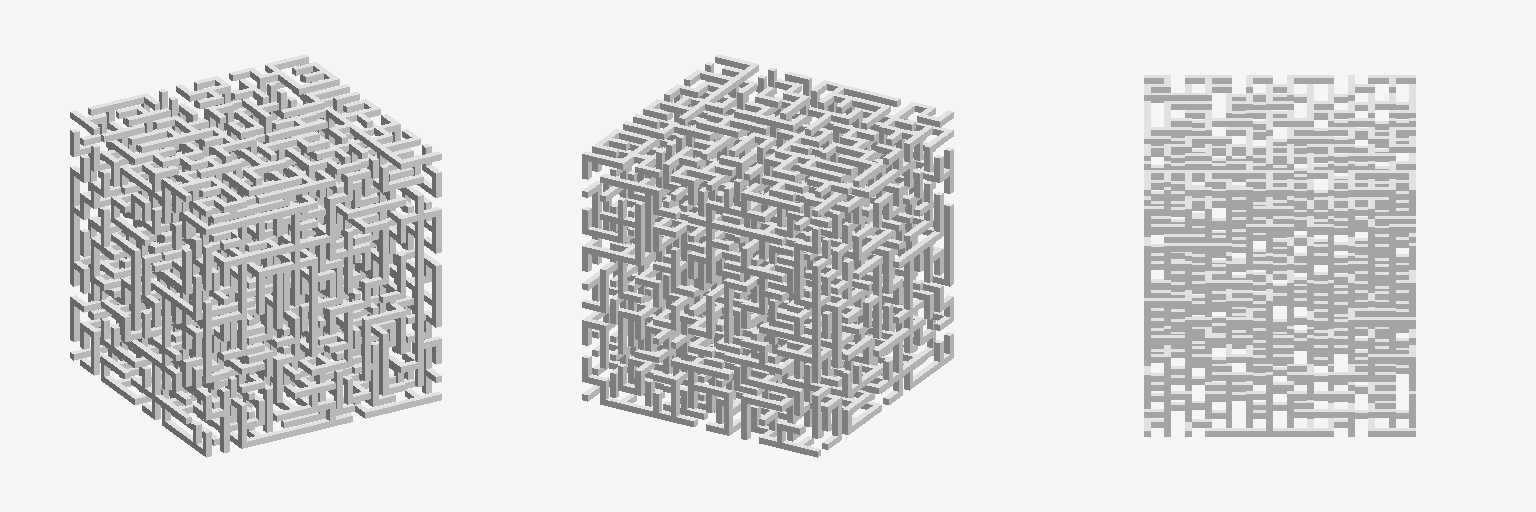
Rendered from Floorveg.obj.
3 renders of one model, left to right at view 1: azimuth 30°, elevation 25°; view 2: azimuth 150°, elevation 25°; view 3: azimuth 270°, elevation 25°, orthographic.
Visible parts, largest first — view 1: object 1; view 2: object 1; view 3: object 1.
Boxes of the visible parts, x1,y1,x2,y2 form: object 1: [70, 54, 441, 457]; object 1: [582, 54, 953, 457]; object 1: [1144, 75, 1415, 436].
Size of the model in its own units: 4 by 4 by 4.